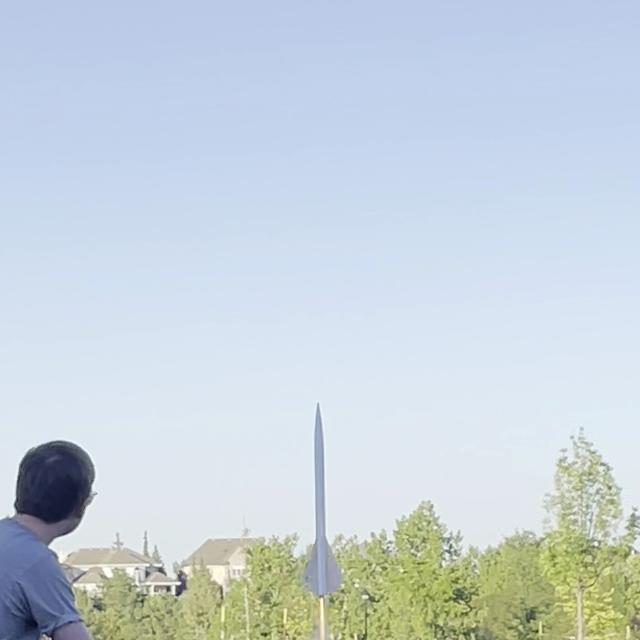rocket: (310, 413, 339, 640)
